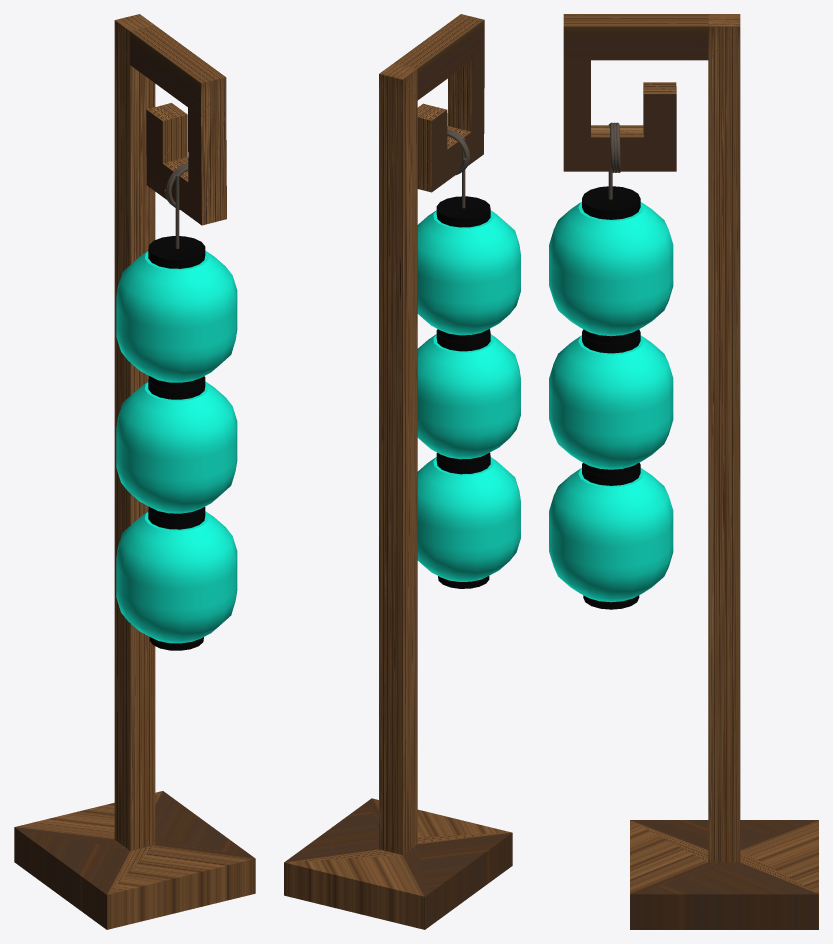
Rendered from green lantern.fbx.
3 views of the same model, side by side, from view 1: azimuth 30°, elevation 25°; view 2: azimuth 150°, elevation 25°; view 3: azimuth 270°, elevation 25° (orthographic). The views are drawn at different scales.
Parts seen in each view (by area): view 1: Cube, Capsule, Capsule_2, Capsule_1; view 2: Cube, Capsule, Capsule_2, Capsule_1; view 3: Cube, Capsule, Capsule_2, Capsule_1.
Boxes of the visible parts, x1=… form: Cube: x1=14, y1=14, x2=255, y2=929; Capsule: x1=116, y1=236, x2=237, y2=389; Capsule_2: x1=116, y1=506, x2=237, y2=650; Capsule_1: x1=116, y1=376, x2=237, y2=519; Cube: x1=284, y1=14, x2=512, y2=929; Capsule: x1=417, y1=196, x2=520, y2=342; Capsule_2: x1=417, y1=452, x2=520, y2=588; Capsule_1: x1=417, y1=329, x2=520, y2=465; Cube: x1=563, y1=14, x2=818, y2=929; Capsule: x1=549, y1=186, x2=673, y2=343; Capsule_2: x1=549, y1=463, x2=673, y2=609; Capsule_1: x1=549, y1=330, x2=673, y2=476.
Size of the model in its own units: 704 by 3867 by 1084.
4 materials, 1 textured.
